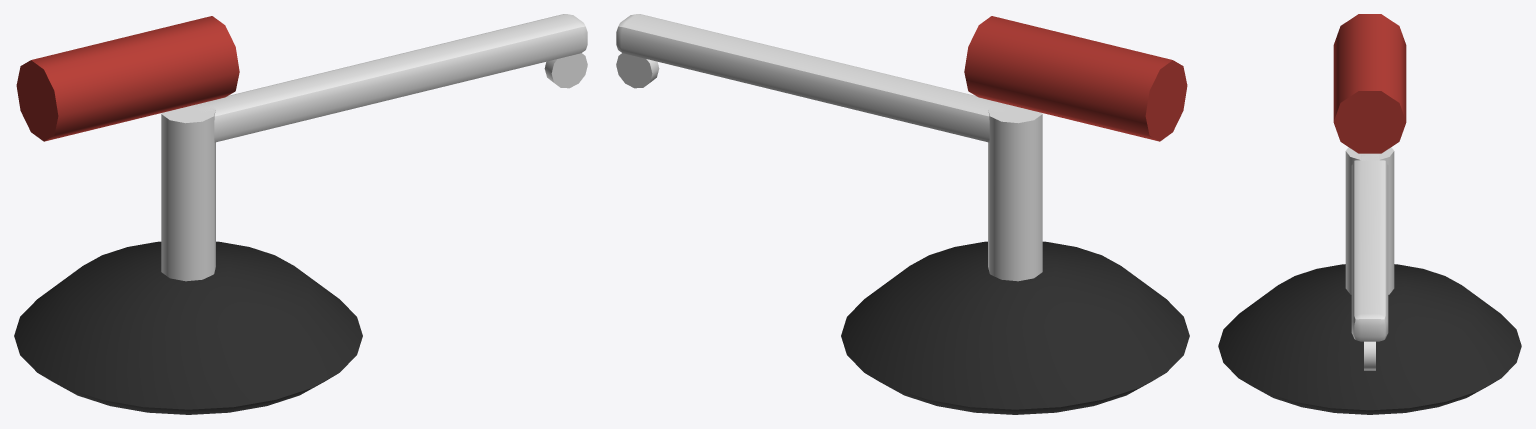
The model's file is SM_EQ_GlassCutter.fbx.
3 renders of one model, left to right at view 1: azimuth 30°, elevation 25°; view 2: azimuth 150°, elevation 25°; view 3: azimuth 270°, elevation 25°, orthographic. The views are drawn at different scales.
Parts seen in each view (by area): view 1: SM_EQ_GlassCutter_1; view 2: SM_EQ_GlassCutter_1; view 3: SM_EQ_GlassCutter_1.
Part boxes in pixels (bbox=[...]): SM_EQ_GlassCutter_1: bbox=[14, 14, 587, 414]; SM_EQ_GlassCutter_1: bbox=[616, 14, 1189, 414]; SM_EQ_GlassCutter_1: bbox=[1218, 14, 1521, 414].
Size of the model in its own units: 18.1 by 10.14 by 10.
